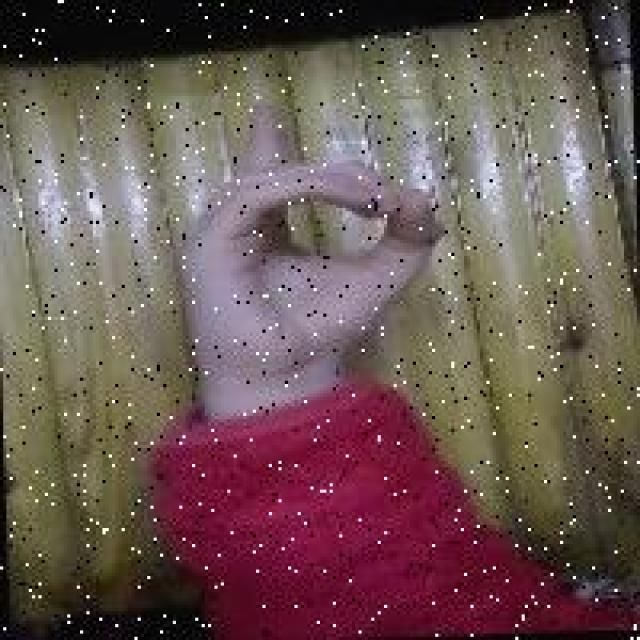D: (155, 94, 450, 389)
